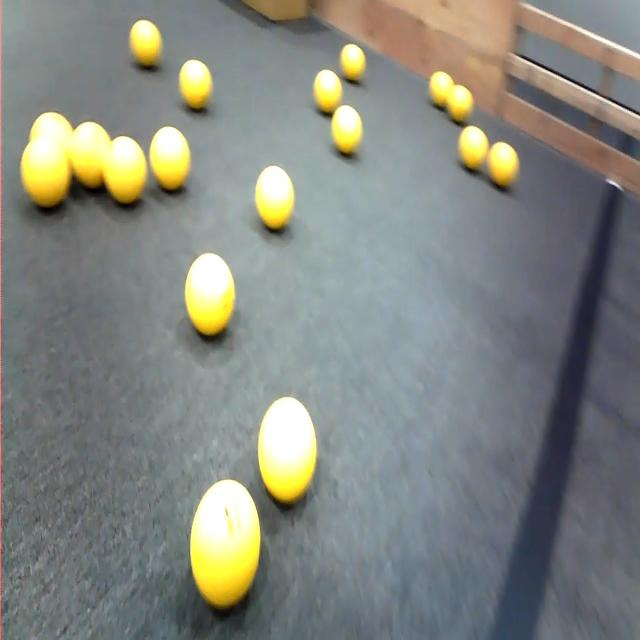fuel: (190, 480, 260, 609), (258, 397, 316, 503), (185, 253, 235, 336), (21, 137, 71, 207), (104, 136, 147, 204), (69, 121, 110, 189), (255, 165, 295, 231), (149, 127, 190, 191), (29, 112, 73, 151), (179, 60, 213, 110), (130, 20, 162, 67), (332, 105, 362, 155), (487, 142, 519, 188), (458, 126, 488, 171), (314, 70, 342, 113), (446, 85, 473, 123), (340, 44, 366, 82), (429, 72, 453, 108)
